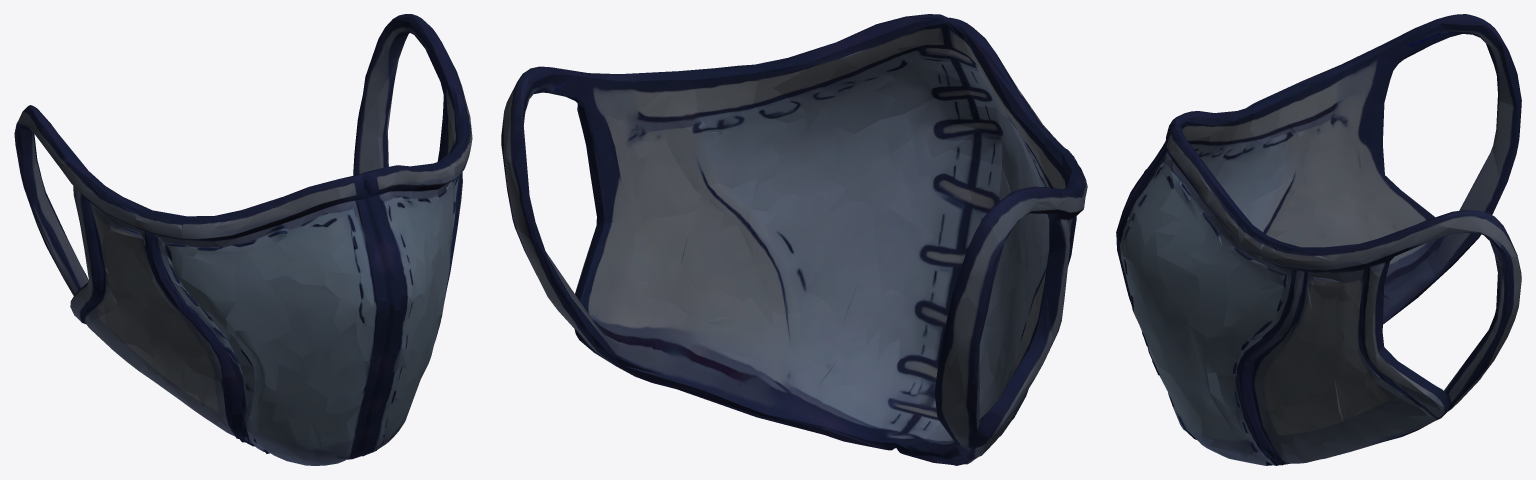
The model's file is nerith_m-masque-1-cuir-rive.glb.
3 views of the same model, side by side, from view 1: azimuth 30°, elevation 25°; view 2: azimuth 150°, elevation 25°; view 3: azimuth 270°, elevation 25° (orthographic). The views are drawn at different scales.
Visible parts, largest first — view 1: geometry_0; view 2: geometry_0; view 3: geometry_0.
Part boxes in pixels (x1,y1,x2,y2): geometry_0: [14, 14, 472, 465]; geometry_0: [501, 14, 1087, 465]; geometry_0: [1116, 14, 1521, 465].
Size of the model in its own units: 1.9 by 1.47 by 1.6.
Materials: 1 (1 with a texture image).
